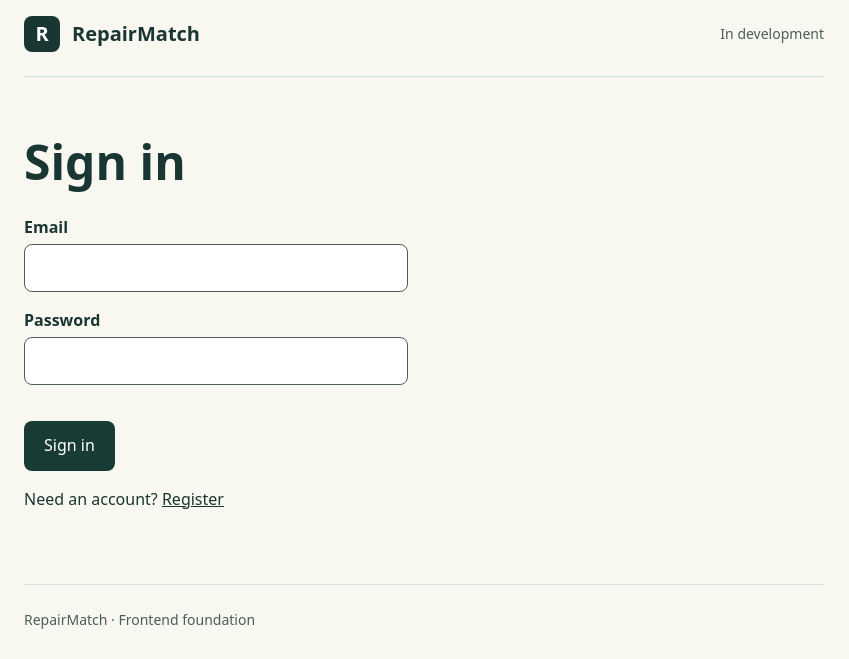
login form › rejects a malformed email
Type "not-an-email" into the field labelled "Email" at (216, 268), box 24,244 -> 408,292
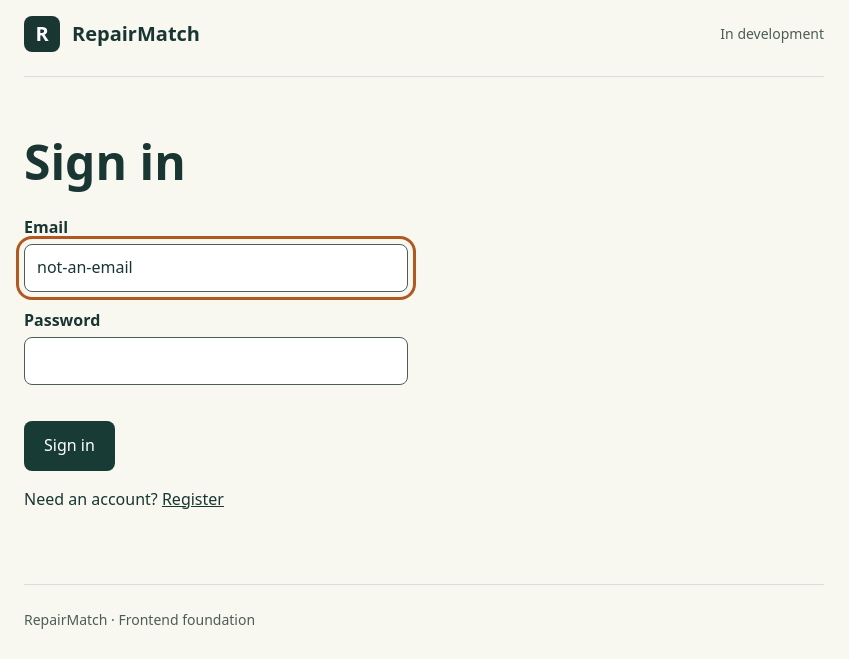
Type "Test-pass-1" into the password field labelled "Password" at (216, 361), box 24,337 -> 408,385
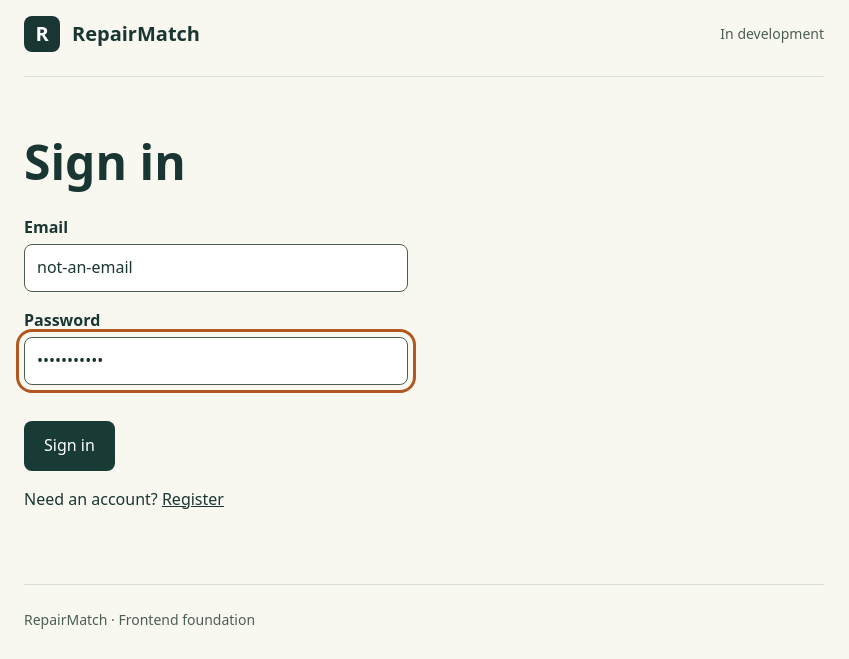
Click the button "Sign in" at (69, 446), box 24,421 -> 115,471
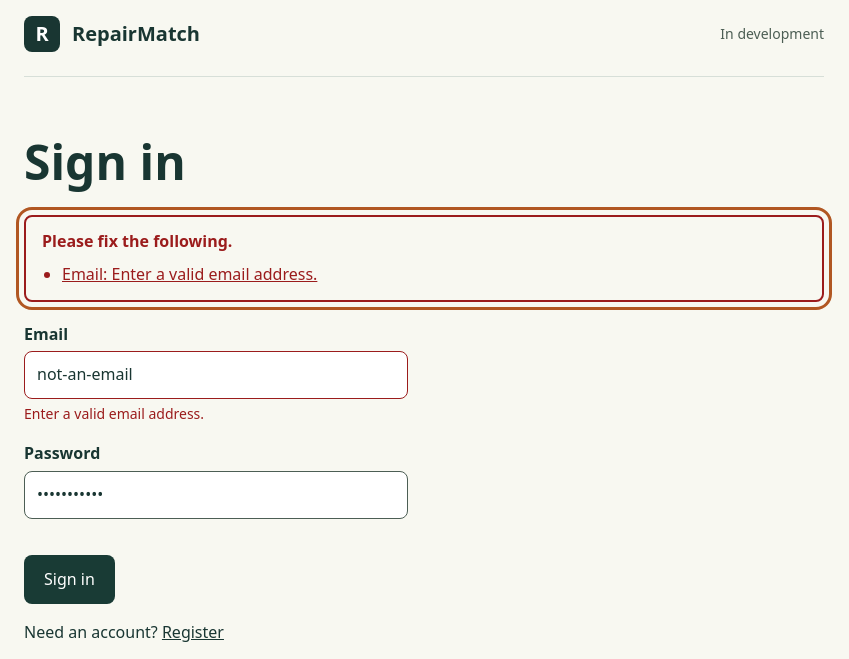
Now the message shows "Enter a valid email address.", box 62,263 -> 317,285
